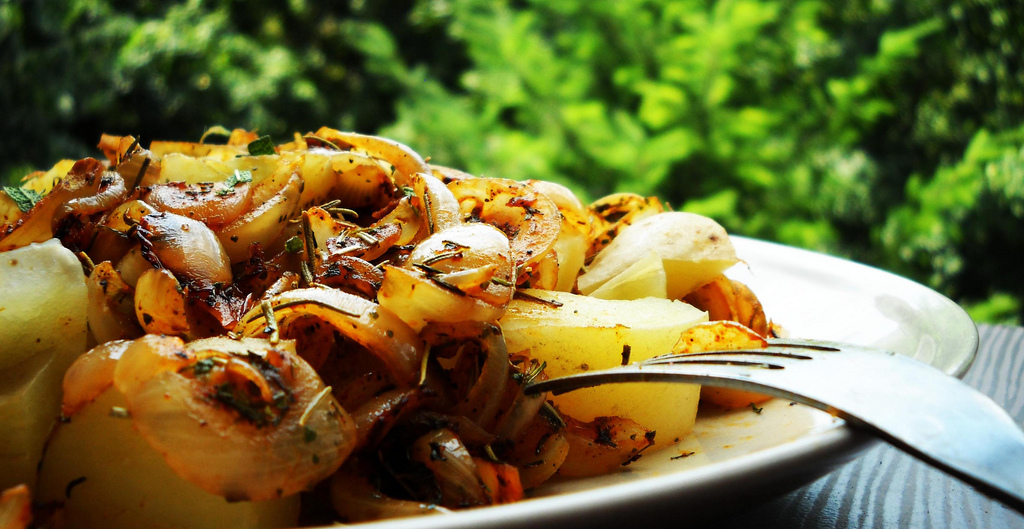boiled potatoes: (514, 292, 704, 447)
